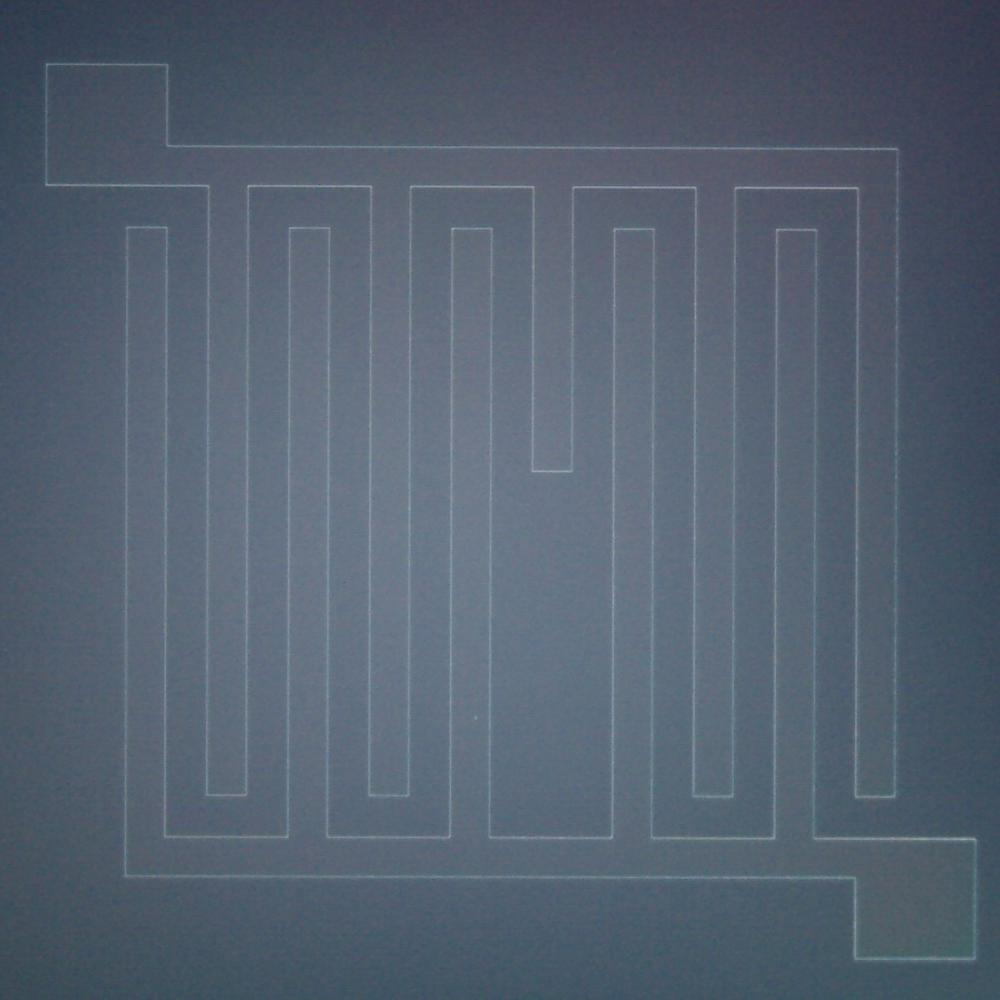dot: (474, 716, 478, 720)
